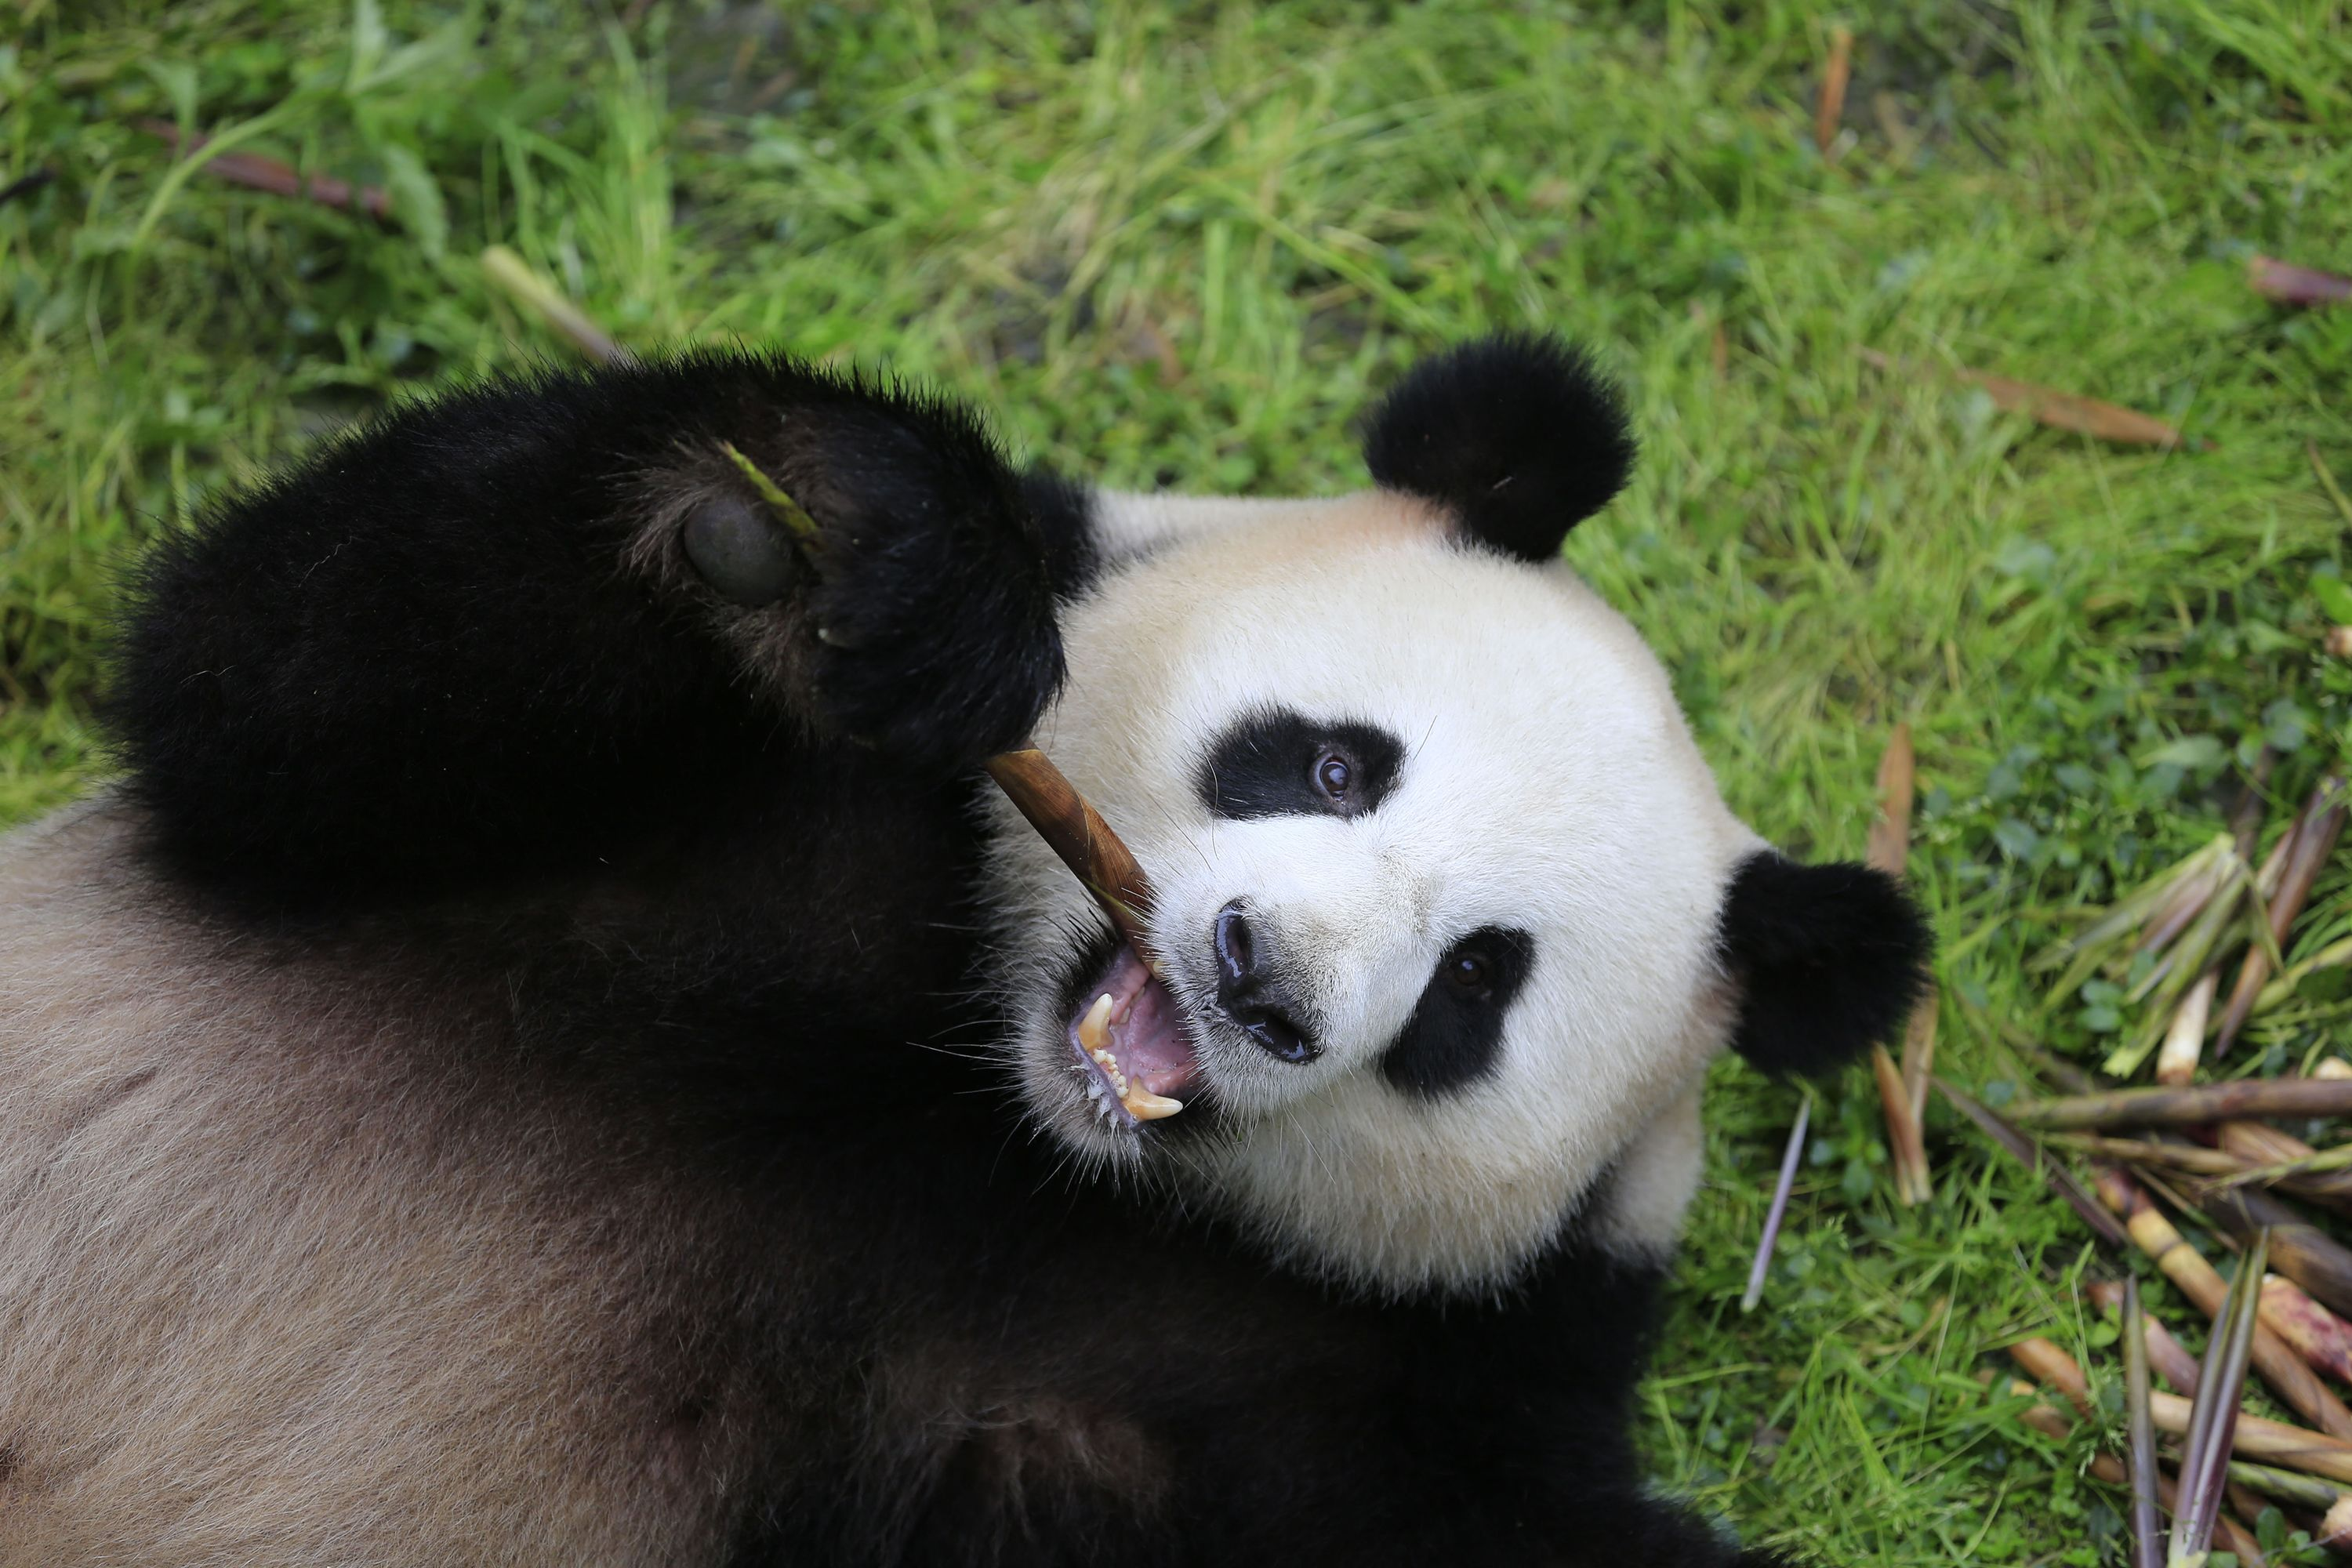Giant panda: (961, 318, 1930, 1298)
